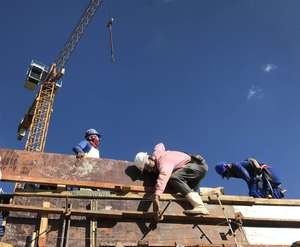blue: (215, 161, 231, 179), (85, 128, 101, 145)
white: (135, 151, 155, 175)
